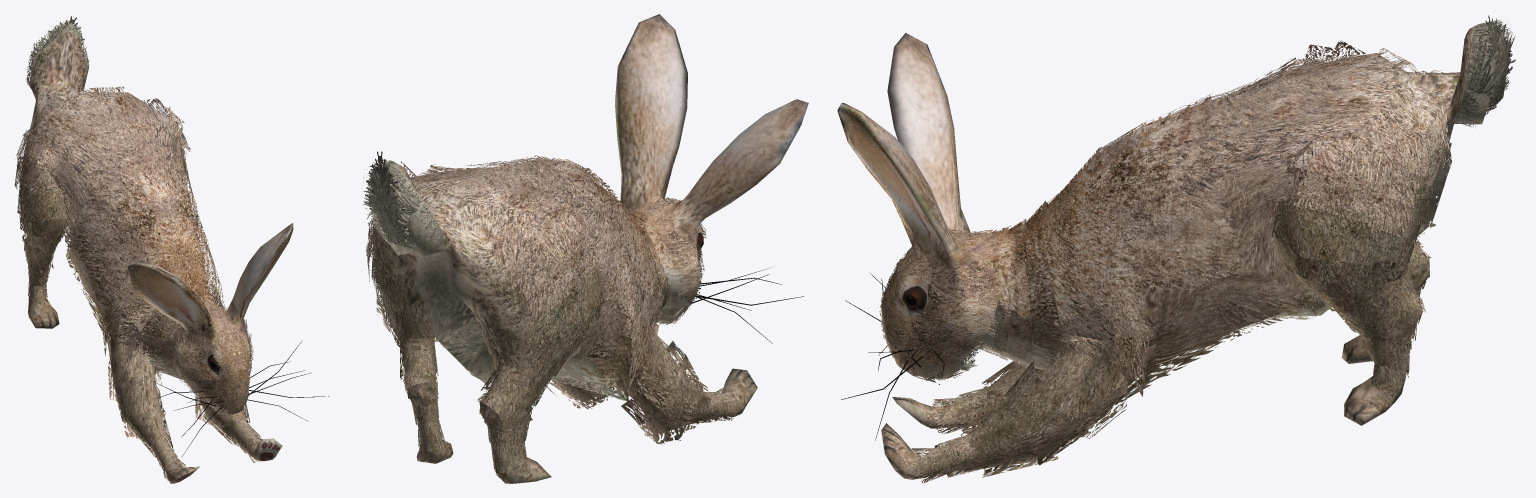
File: rabbit20020.obj
3 renders of one model, left to right at view 1: azimuth 30°, elevation 25°; view 2: azimuth 150°, elevation 25°; view 3: azimuth 270°, elevation 25°, orthographic. The views are drawn at different scales.
Parts seen in each view (by area): view 1: Rabbit, Fur; view 2: Rabbit, Fur; view 3: Rabbit, Fur.
Boxes of the visible parts, x1,y1,x2,y2 form: Rabbit: (20, 31, 329, 483); Fur: (14, 16, 261, 480); Rabbit: (373, 14, 808, 483); Fur: (363, 151, 740, 475); Rabbit: (837, 25, 1511, 479); Fur: (879, 15, 1515, 483).
Bounding box in the file's own units: 8.68 × 14.05 × 18.18.
